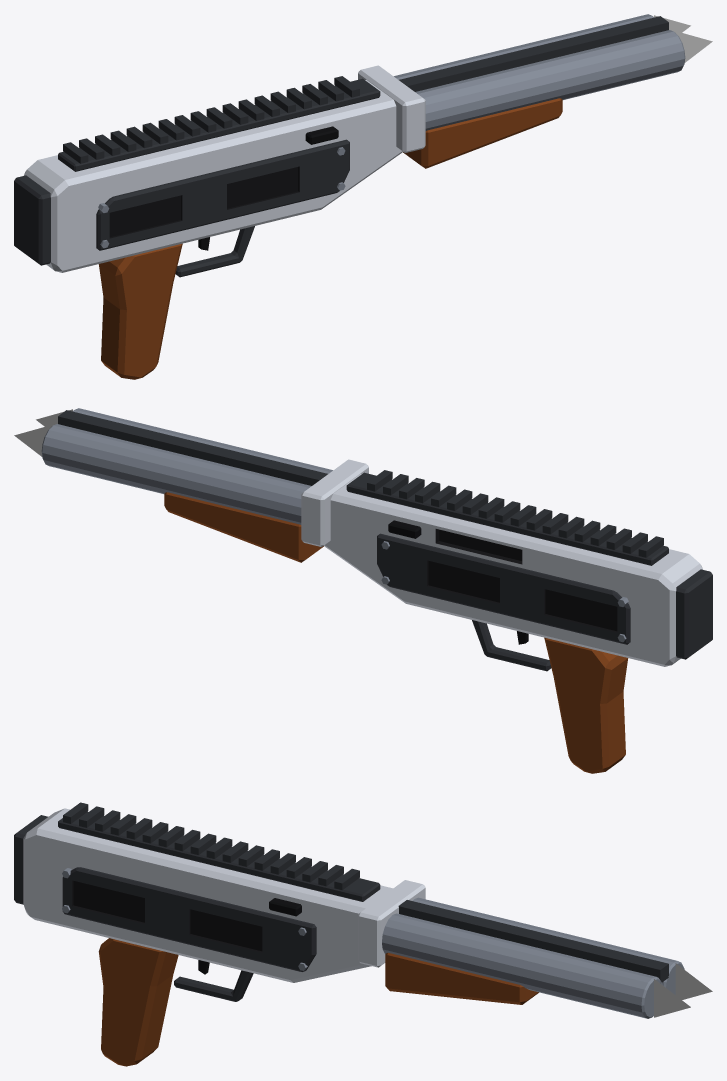
File: sawed_off_shotgun42.obj
3 renders of one model, top to bottom at view 1: azimuth 30°, elevation 25°; view 2: azimuth 150°, elevation 25°; view 3: azimuth 330°, elevation 25°, orthographic.
Visible parts, largest first — view 1: body, barrel; view 2: body, barrel; view 3: body, barrel, muzzle_0, muzzle_1.
Part boxes in pixels (<box>): body: <box>14,76,402,379</box>; barrel: <box>358,14,685,168</box>; body: <box>324,470,712,773</box>; barrel: <box>41,408,368,562</box>; body: <box>14,802,392,1066</box>; barrel: <box>358,880,684,1018</box>; muzzle_0: <box>654,979,690,1017</box>; muzzle_1: <box>675,963,712,999</box>.
Size of the model in its own units: 0.4655 by 0.1557 by 0.0567.
